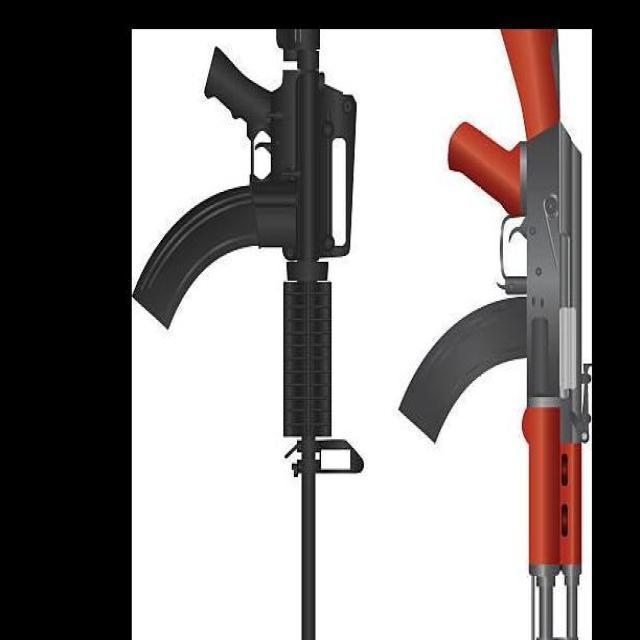Rifle: (132, 29, 364, 640), (398, 29, 591, 640)
